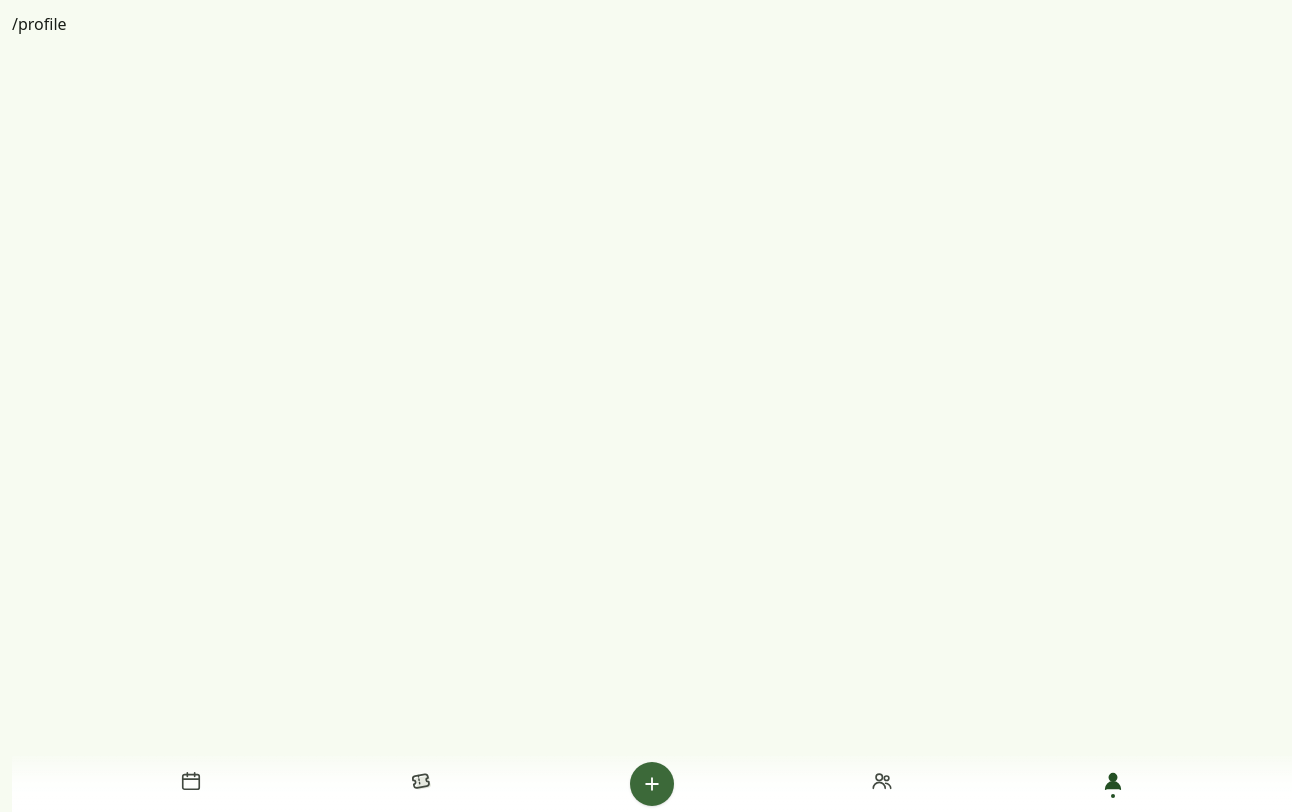
Test: BottomNav › pressing my rsvps while signed out navigates to login instead of doing nothing
Click the link named "my rsvps": [448, 787] box 409,768 -> 488,806
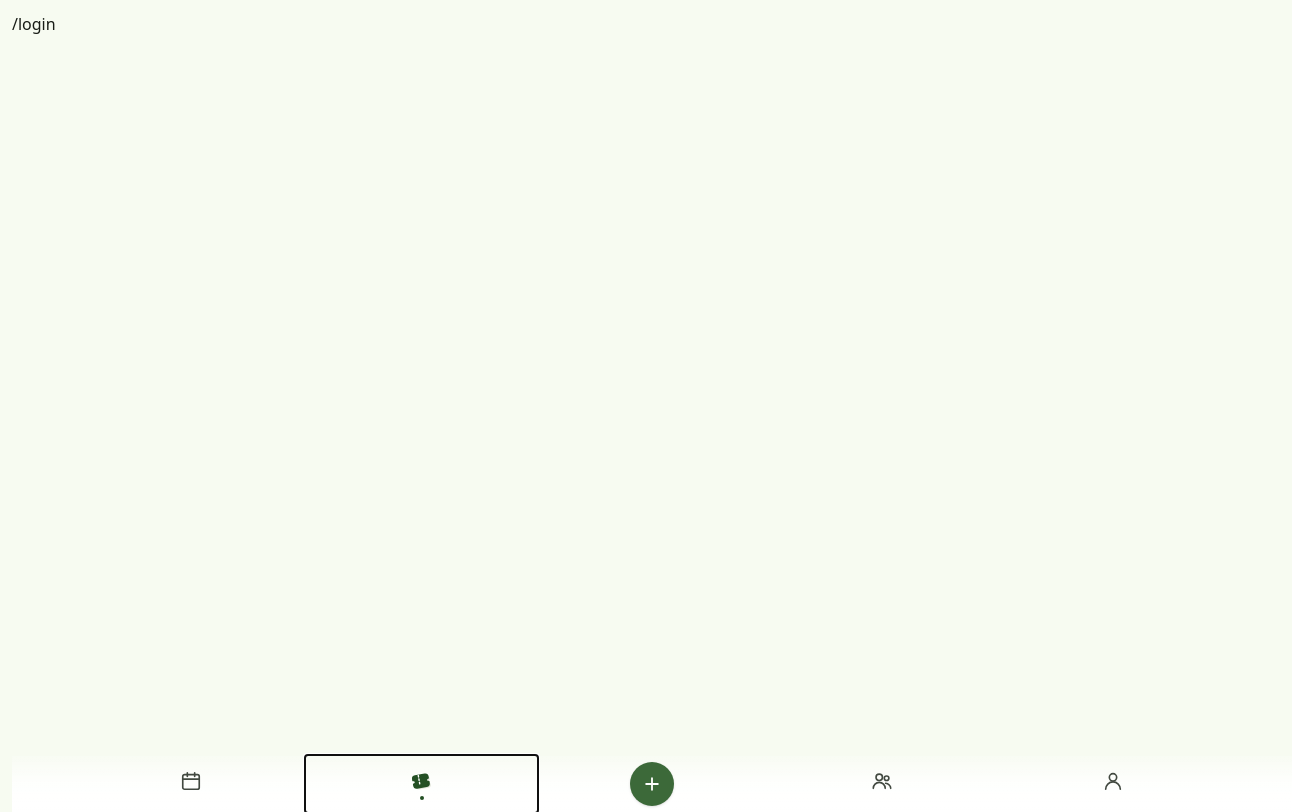
Result: the text with test id "pathname" reads "/login" at 12,13 -> 56,35
